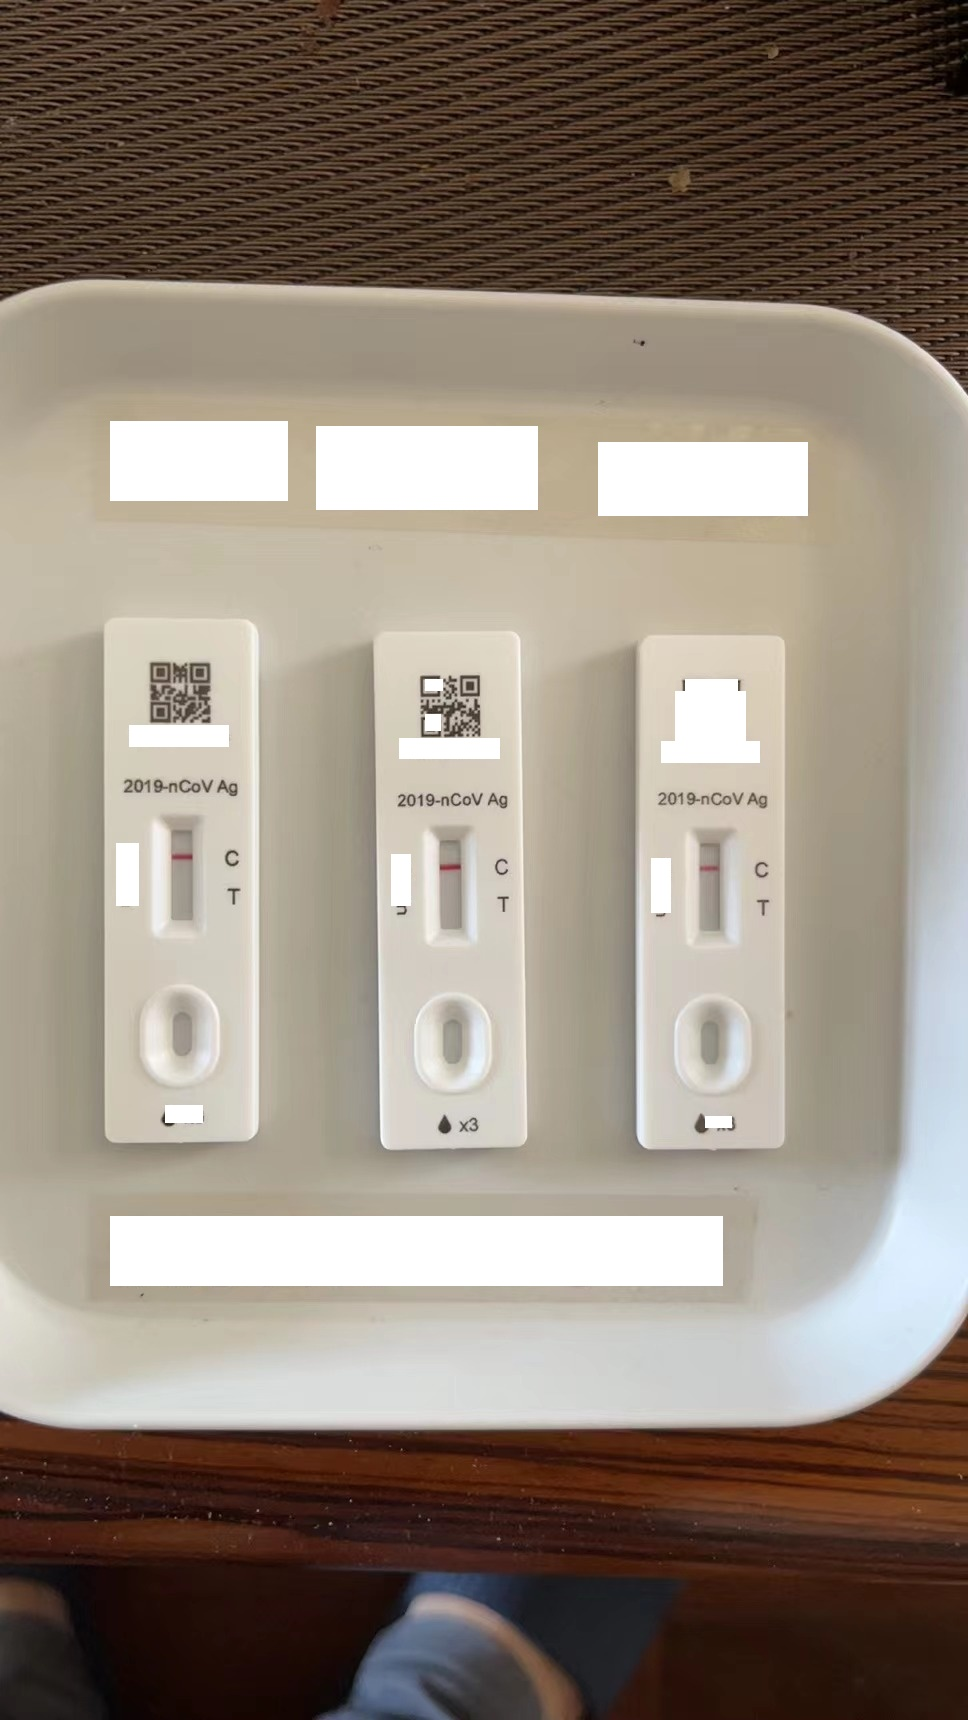negative: (152, 812, 204, 942), (422, 826, 476, 944), (687, 826, 739, 946)
